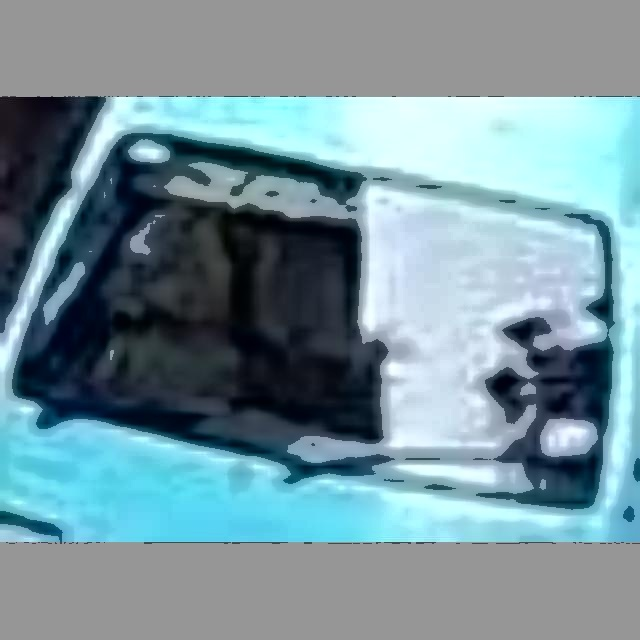tidak-pakai: (101, 198, 352, 385)
